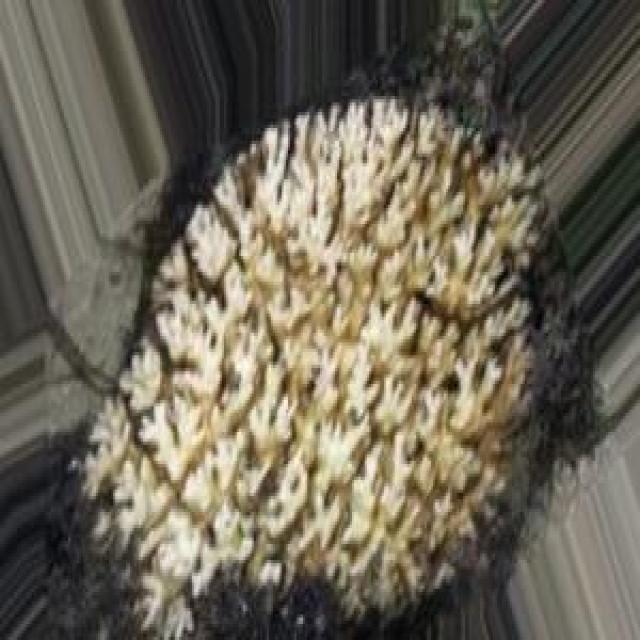Bleached: (89, 99, 536, 633)
